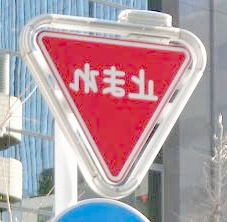Regulatory_sign_triangle: (26, 20, 197, 199)
